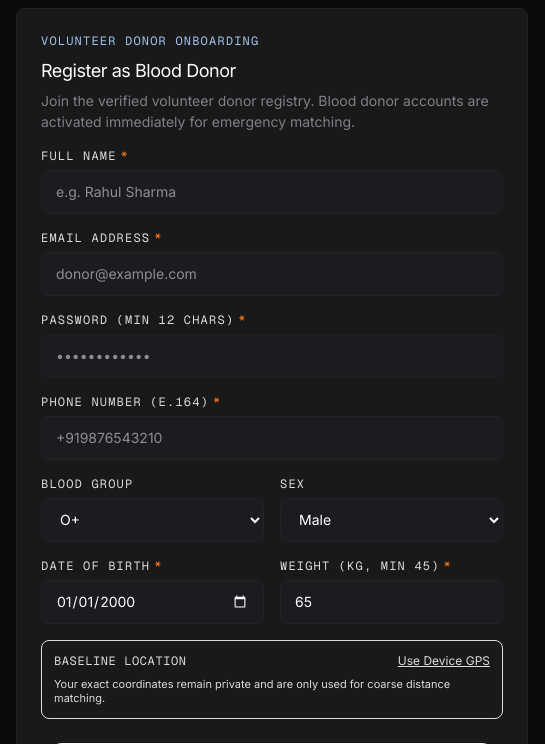
Scenario: Auth Screens & Form UX Validation › validates donor registration enforcing min 12 character password and min 45kg weight
Type "A" into the field labelled "Full Name*" at {"x": 272, "y": 192}, box x1=41 y1=170 x2=503 y2=214
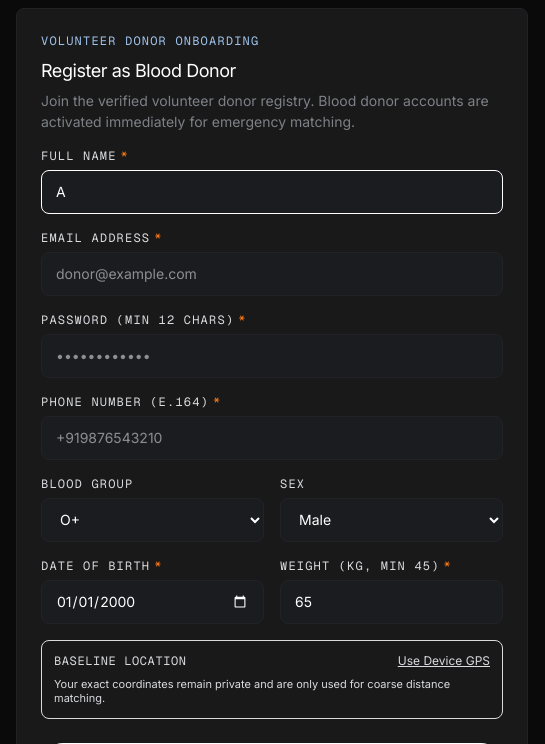
Type "notanemail" into the field labelled "Email Address*" at {"x": 272, "y": 274}, box x1=41 y1=252 x2=503 y2=296
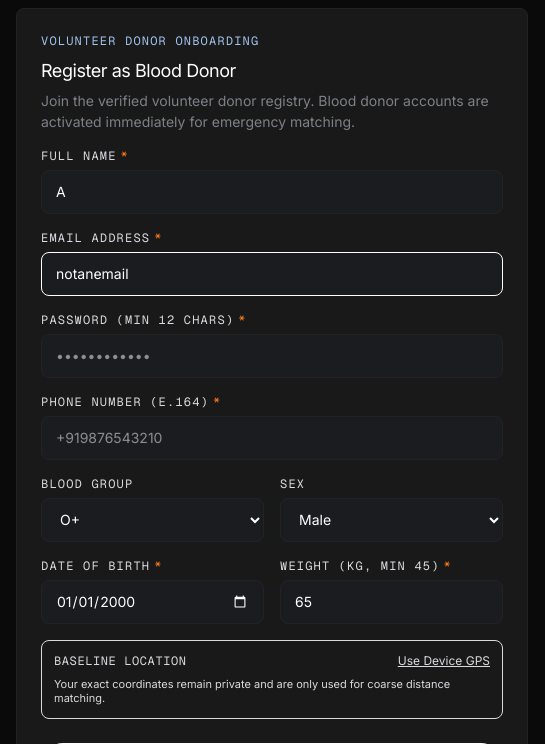
Type "short" into the password field labelled "Password (min 12 chars)*" at {"x": 272, "y": 356}, box x1=41 y1=334 x2=503 y2=378
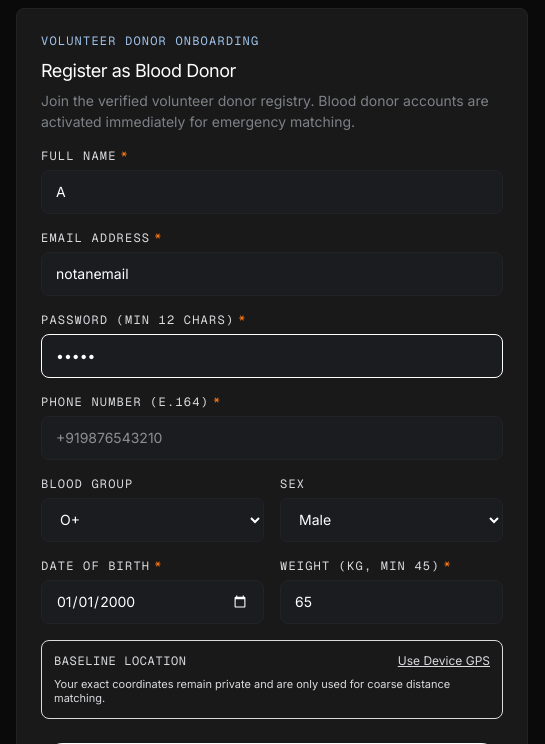
Replace the text in the number field labelled "Weight (kg, min 45)*" with "40" at {"x": 392, "y": 602}, box x1=280 y1=580 x2=503 y2=624
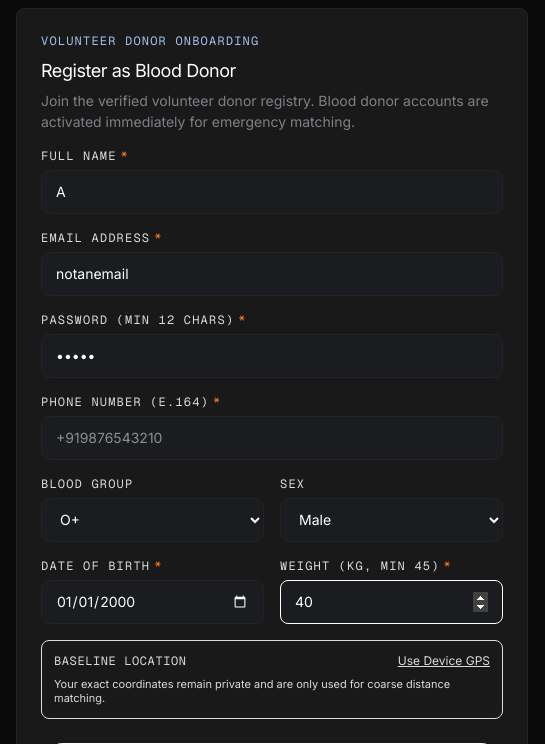
Type "1234" into the field labelled "Phone Number (E.164)*" at {"x": 272, "y": 438}, box x1=41 y1=416 x2=503 y2=460
(page scrolled)
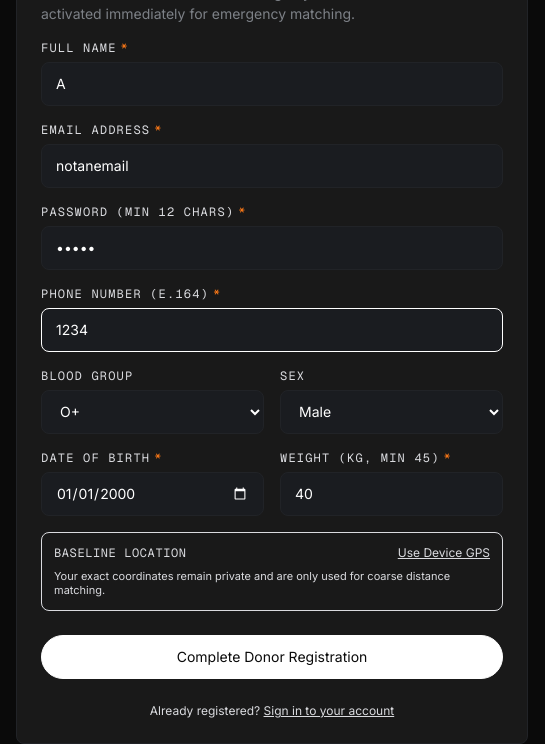
Click the button "Complete Donor Registration" at {"x": 272, "y": 657}, box x1=41 y1=635 x2=503 y2=679
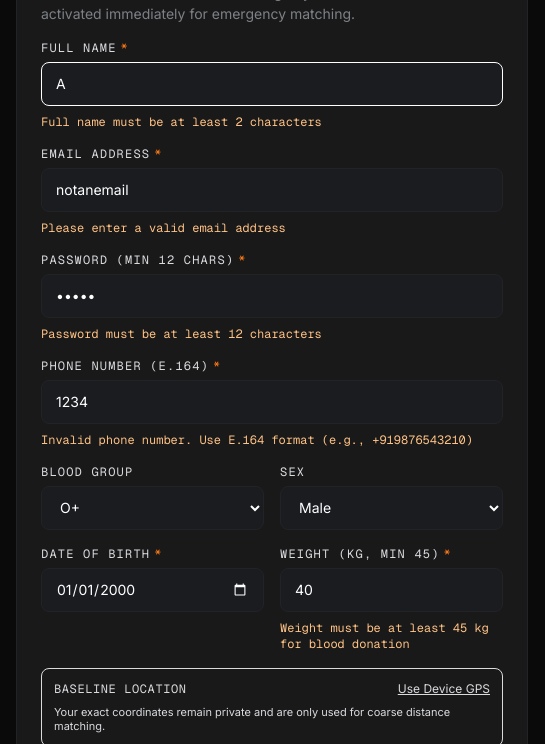
Expected: the text "Full name must be at least 2 characters" is shown, x1=41 y1=114 x2=322 y2=130
Expected: the text "Please enter a valid email address" is shown, x1=41 y1=220 x2=286 y2=236
Expected: the text "Password must be at least 12 characters" is shown, x1=41 y1=326 x2=322 y2=342
